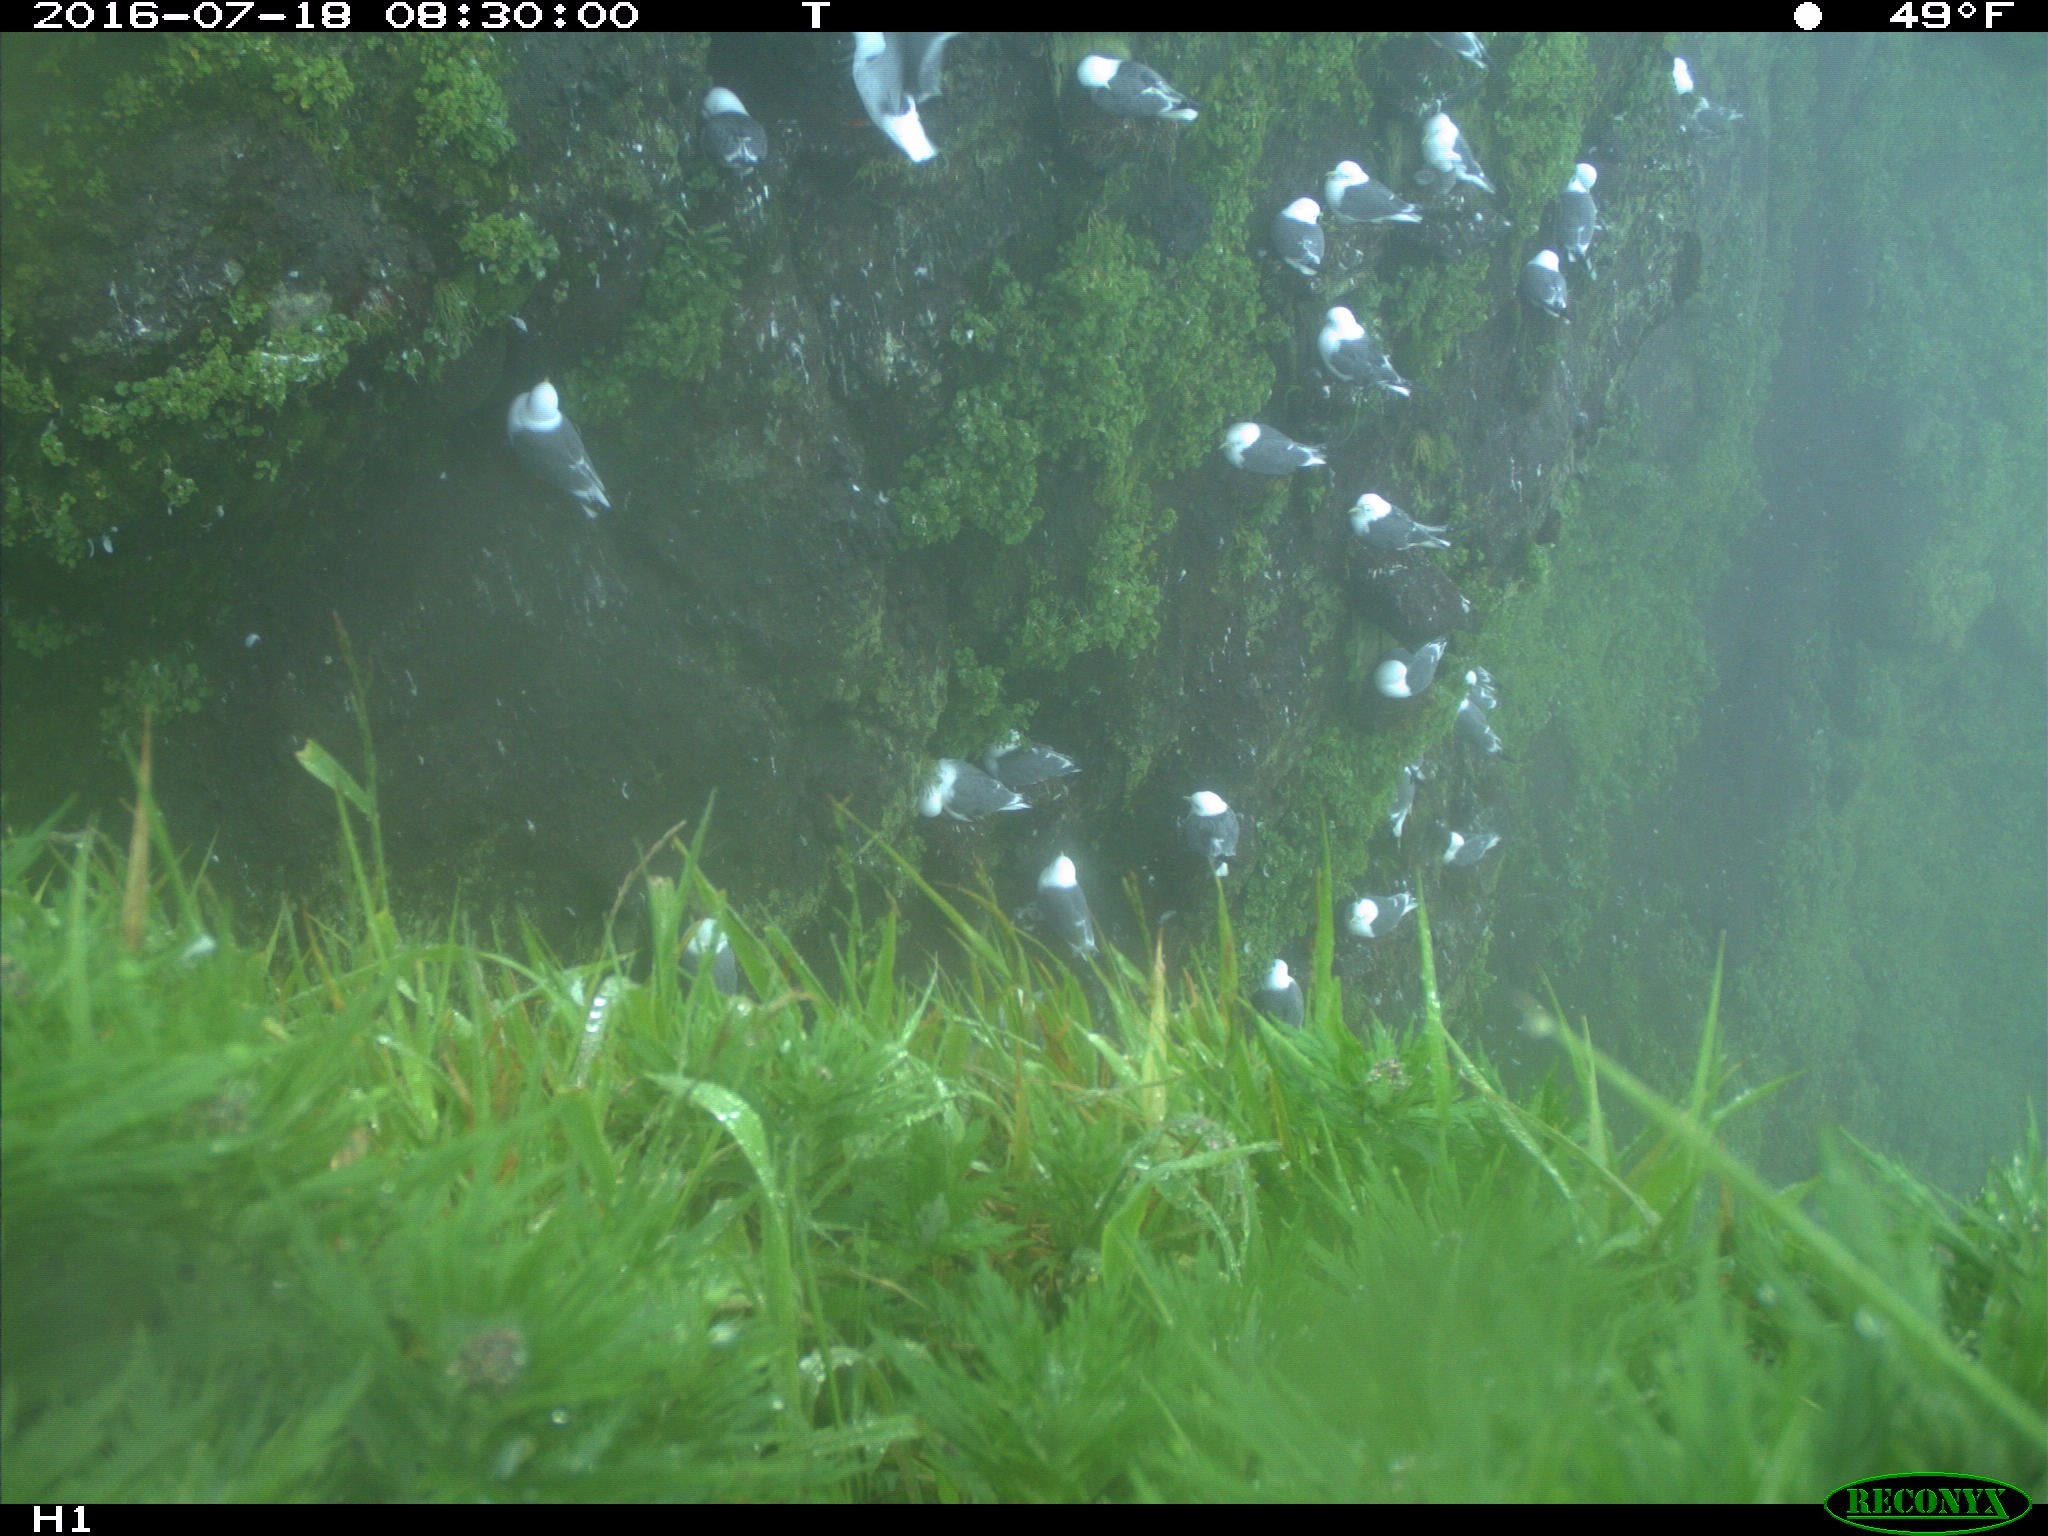Kittiwake: (472, 361, 656, 539), (834, 24, 977, 207), (989, 837, 1135, 992), (1040, 40, 1255, 145), (1284, 144, 1480, 257), (1292, 297, 1427, 436), (1145, 755, 1263, 899), (655, 899, 789, 1023), (1314, 476, 1464, 582), (887, 744, 1039, 849), (660, 55, 789, 176), (1176, 395, 1347, 486), (1409, 787, 1540, 891), (1646, 45, 1766, 152), (974, 702, 1101, 799), (1406, 98, 1532, 195), (1545, 152, 1637, 276), (1326, 870, 1450, 960), (1347, 624, 1464, 720), (1250, 194, 1359, 290), (1242, 954, 1335, 1052), (1409, 23, 1550, 84), (1509, 239, 1606, 323), (1450, 641, 1509, 757), (1358, 757, 1430, 837)
